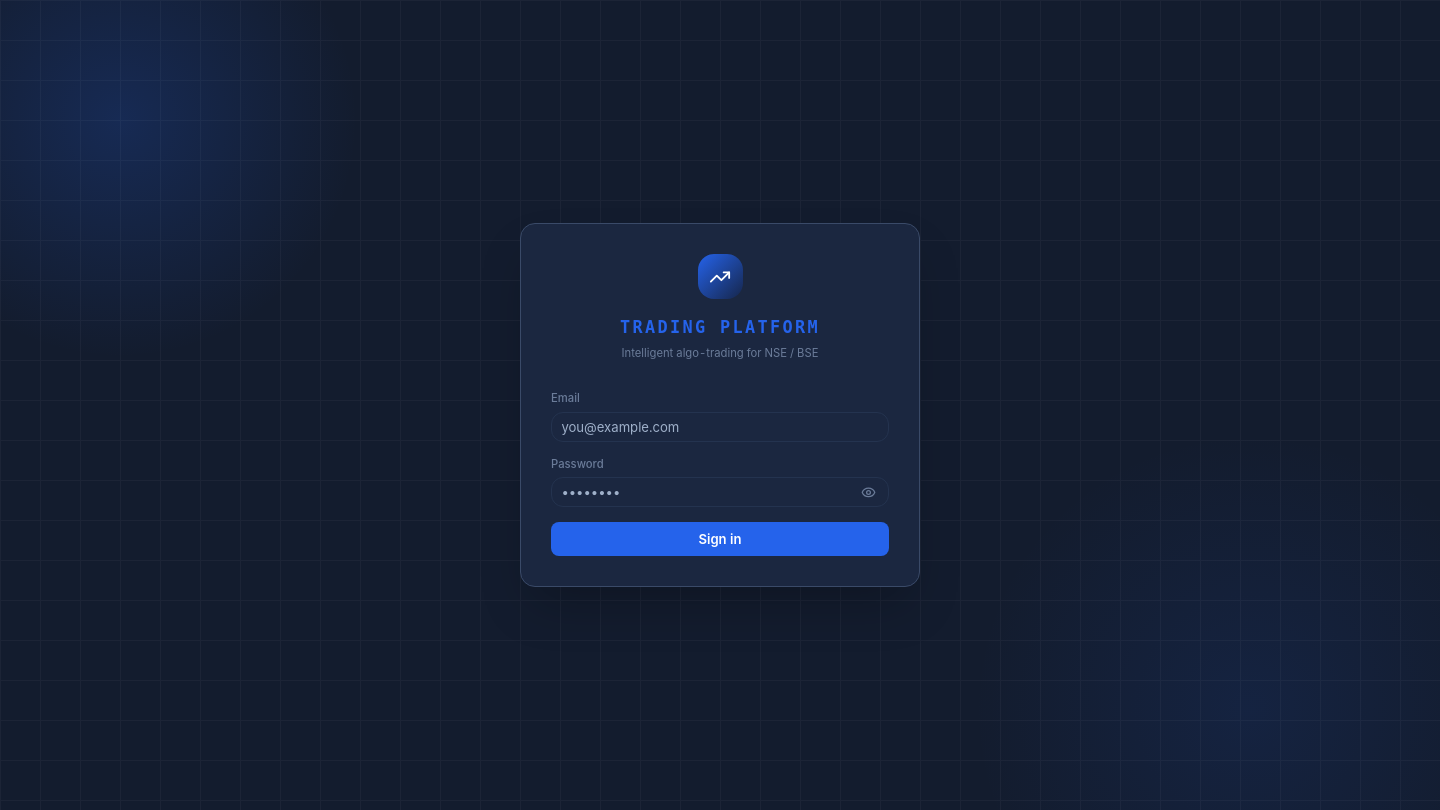
Test: LoginPage › shows error on 401
The image size is (1440, 810).
Type "a@example.com" into the field labelled "Email".
click(720, 427); type("a@example.com")  # box left=551, top=412, right=889, bottom=442
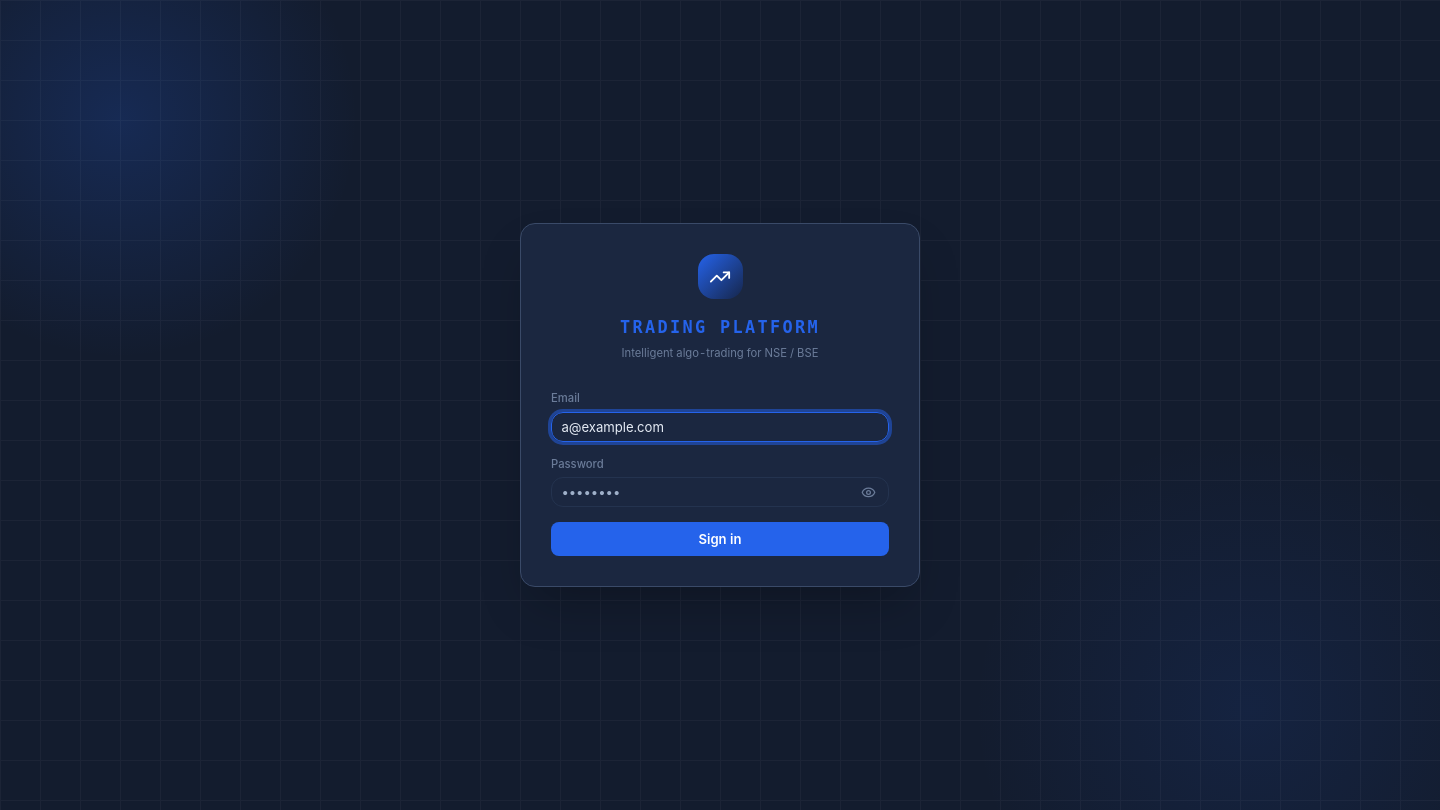
Type "wrong" into the password field labelled "Password".
click(720, 492); type("wrong")  # box left=551, top=477, right=889, bottom=507
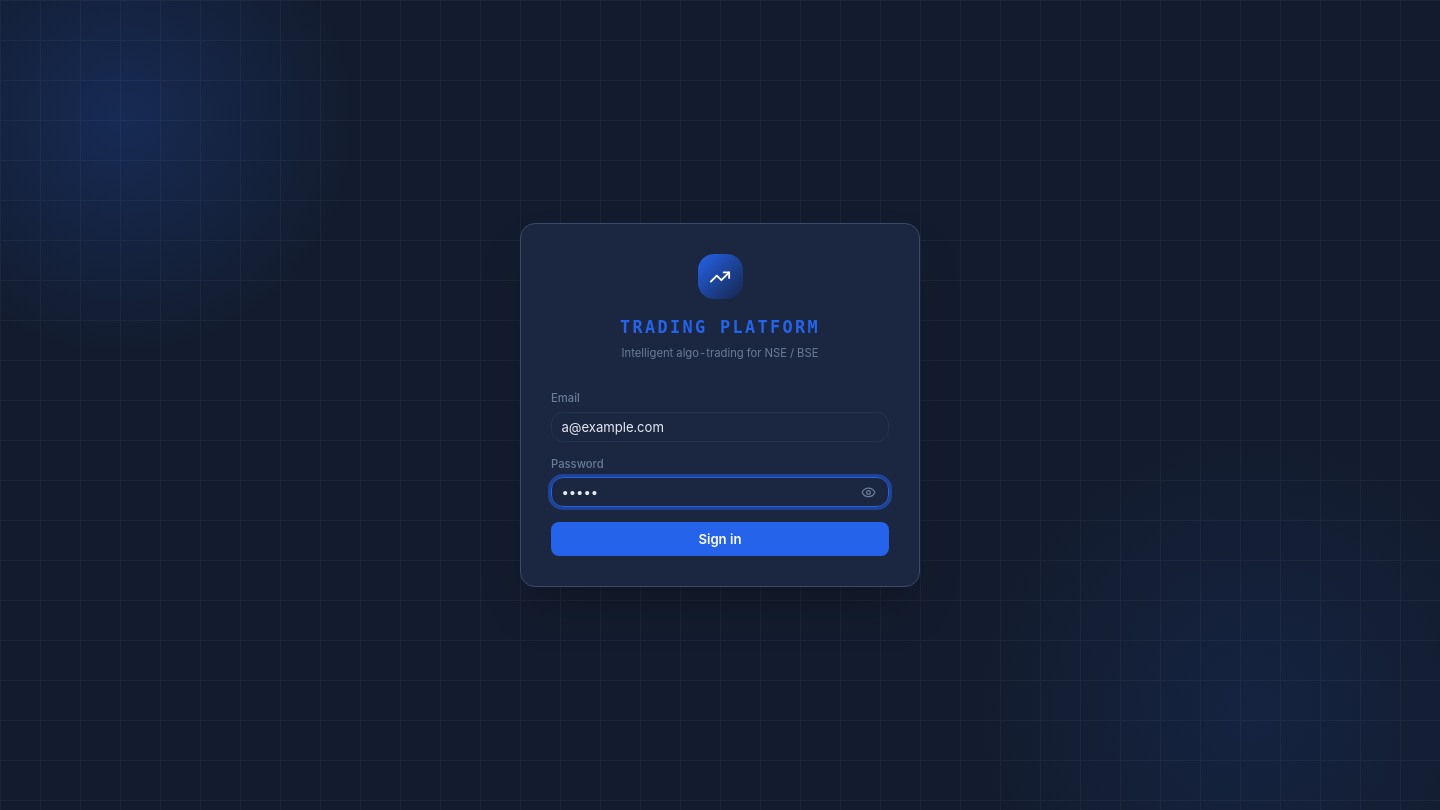
Click the button "Sign in".
click(720, 539)  # box left=551, top=522, right=889, bottom=556
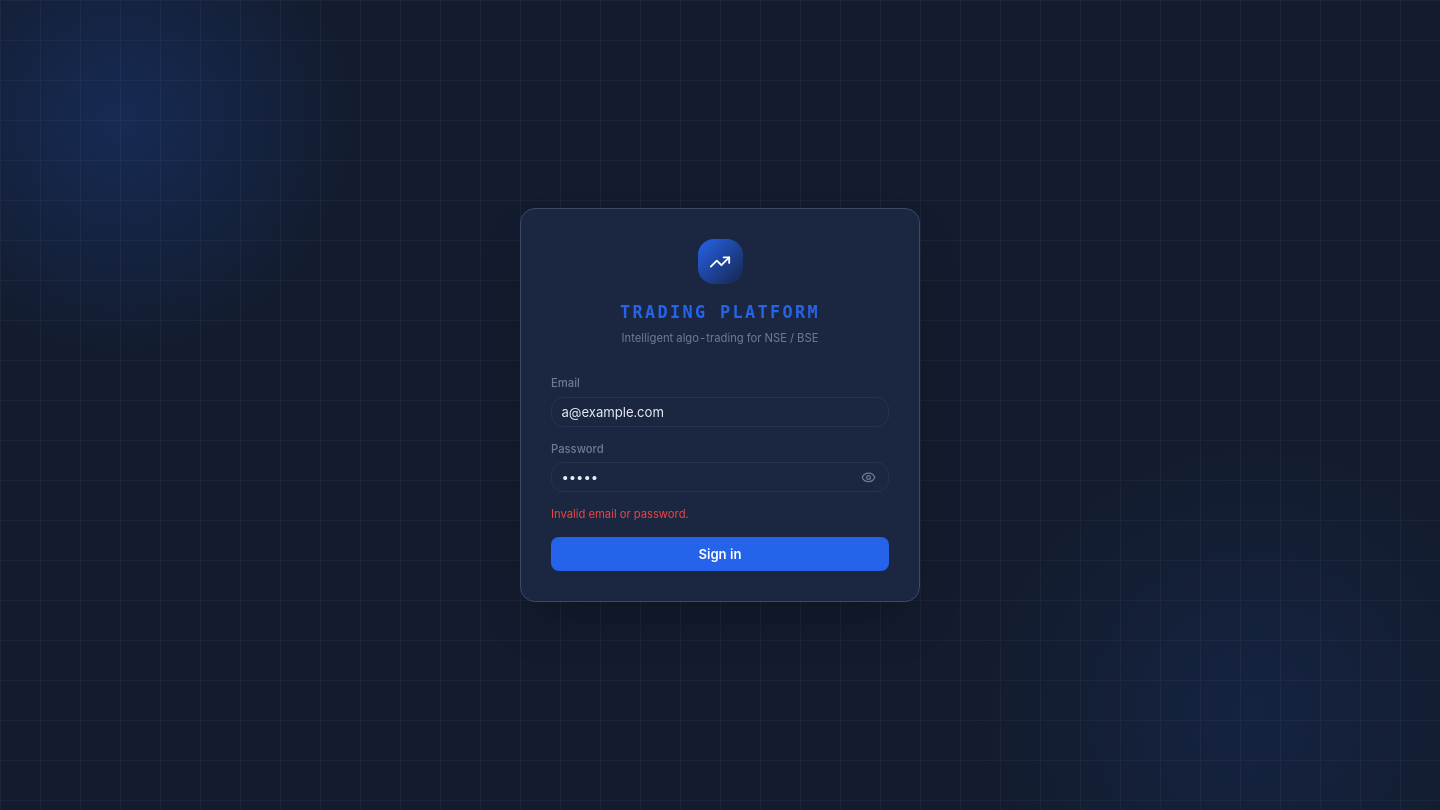
Expected: the text "Invalid email or password." is shown, left=551, top=507, right=689, bottom=521
